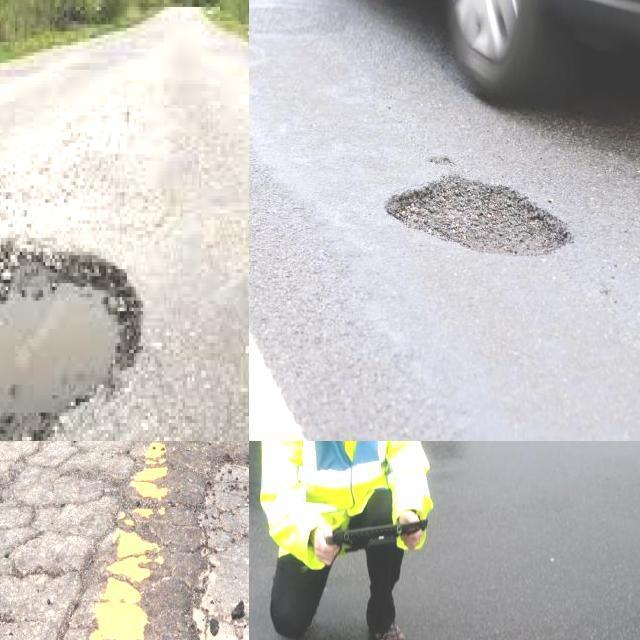Pothole: (389, 177, 570, 253), (191, 459, 249, 640)
